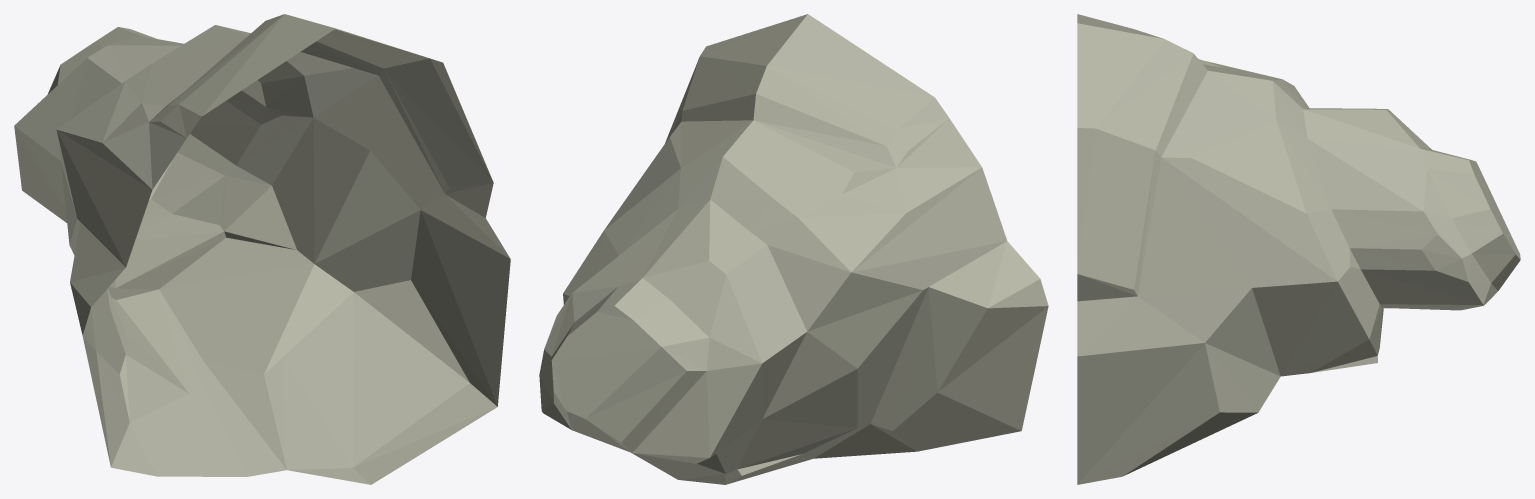
File: Mountain Rock 03.FBX
3 views of the same model, side by side, from view 1: azimuth 30°, elevation 25°; view 2: azimuth 150°, elevation 25°; view 3: azimuth 270°, elevation 25° (orthographic). The views are drawn at different scales.
Parts seen in each view (by area): view 1: Mountain Rock 03; view 2: Mountain Rock 03; view 3: Mountain Rock 03.
Boxes of the visible parts, <box> form: Mountain Rock 03: <box>14,14,510,484</box>; Mountain Rock 03: <box>539,14,1048,484</box>; Mountain Rock 03: <box>1077,14,1520,484</box>.
Bounding box in the file's own units: 1695 × 1636 × 1759.
